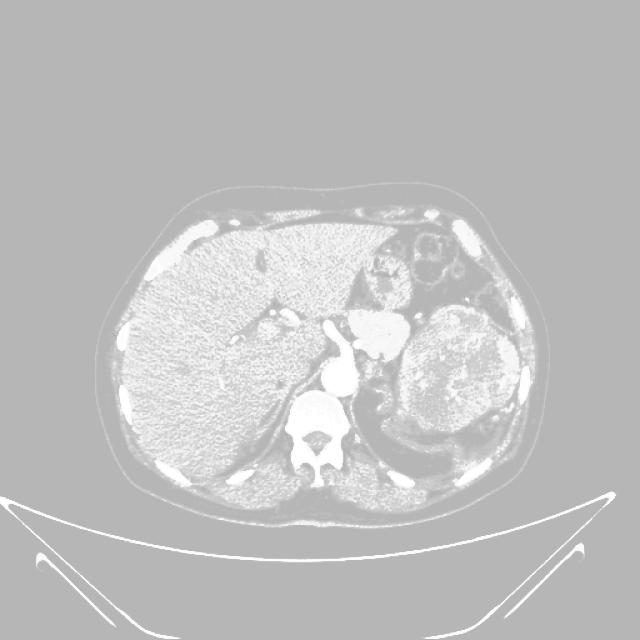TUMOR: (373, 227, 551, 475)
